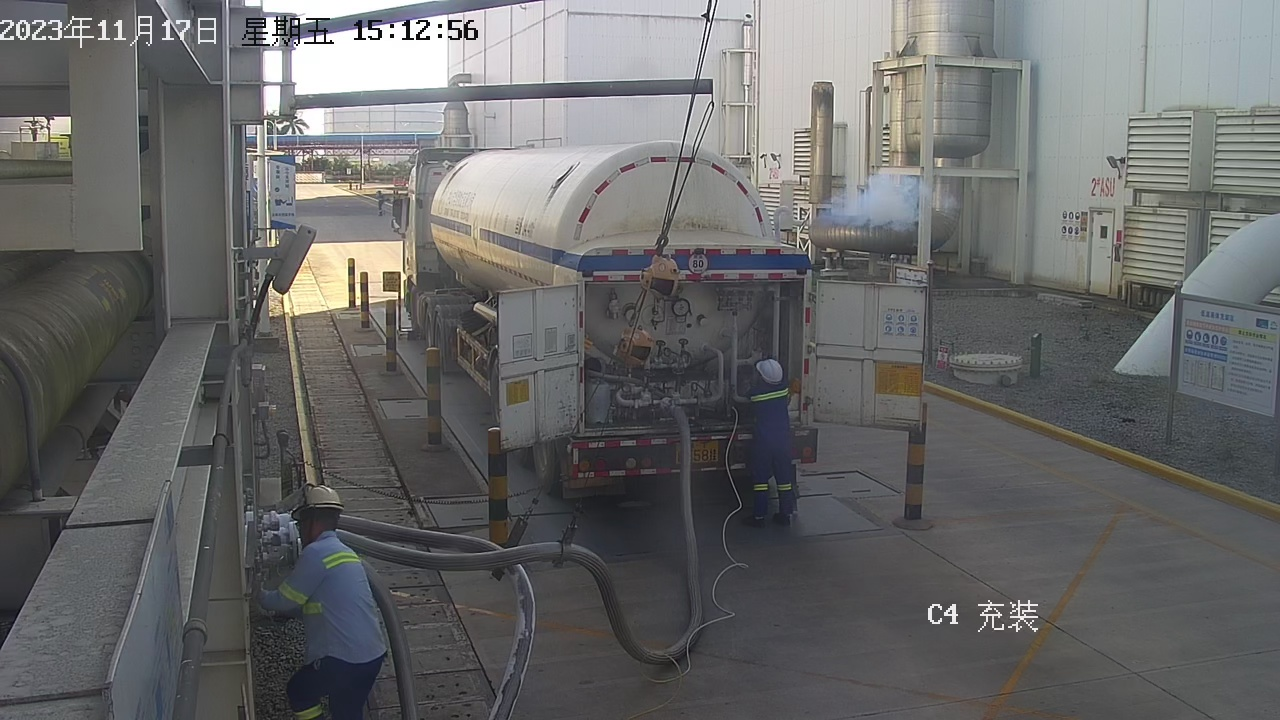Head_with_Helmet: (268, 477, 357, 541), (733, 346, 797, 395), (374, 189, 383, 196)
Uniform: (247, 523, 398, 720), (712, 386, 824, 535), (370, 194, 390, 216)
